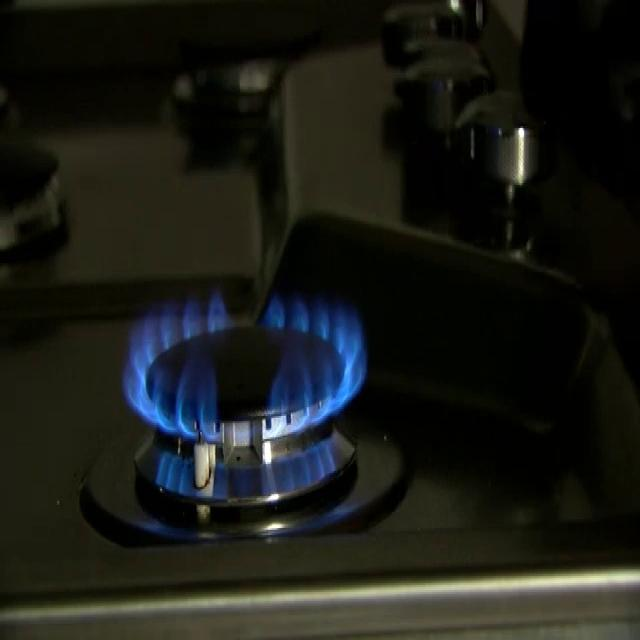fire: (101, 256, 413, 536)
